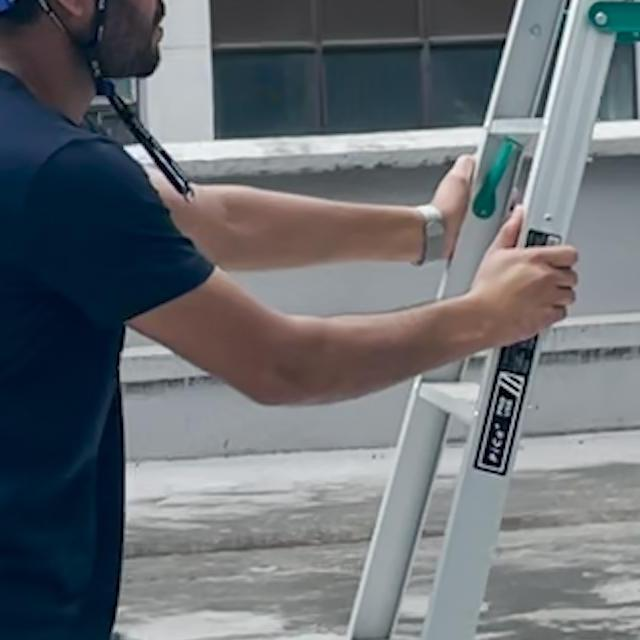Ladder: (156, 0, 640, 640)
NO-Mask: (101, 0, 173, 81)
NO-Safety Vest: (0, 55, 129, 640)
Person: (0, 0, 569, 640)
